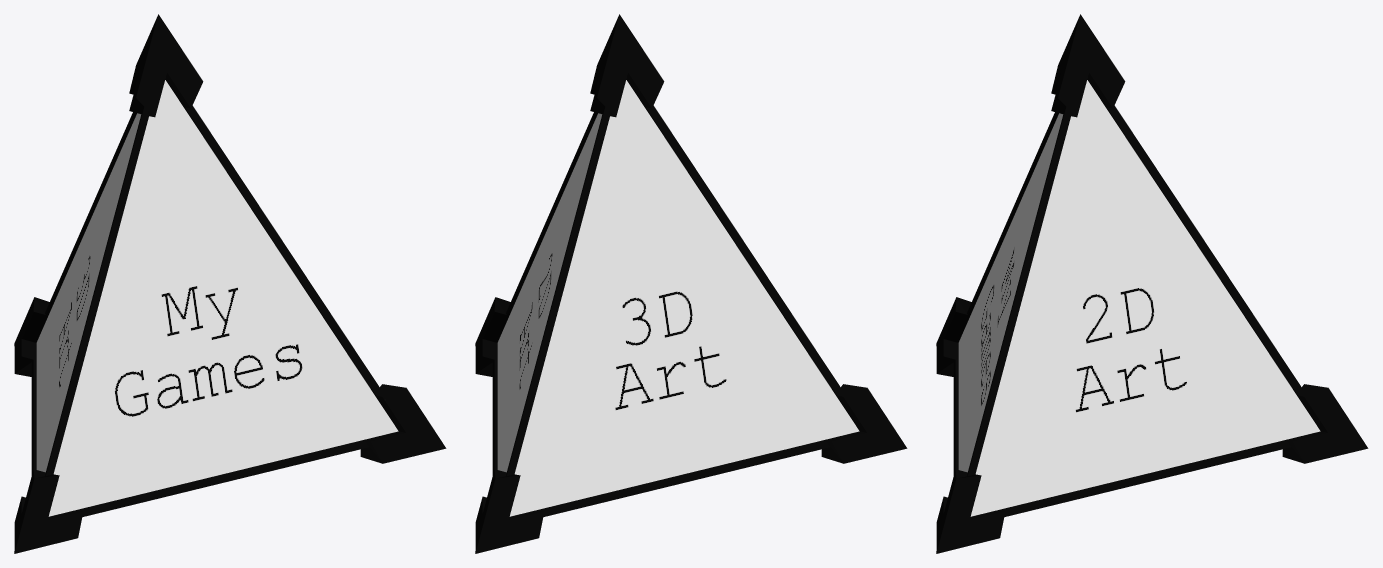
The model's file is NavTri.obj.
3 renders of one model, left to right at view 1: azimuth 30°, elevation 25°; view 2: azimuth 150°, elevation 25°; view 3: azimuth 270°, elevation 25°, orthographic.
Parts seen in each view (by area): view 1: MainTriangle; view 2: MainTriangle; view 3: MainTriangle.
Boxes of the visible parts, x1,y1,x2,y2 form: MainTriangle: (14, 14, 446, 553); MainTriangle: (475, 14, 907, 553); MainTriangle: (936, 14, 1368, 553).
Size of the model in its own units: 17.56 by 16.88 by 15.21.
1 material, 1 textured.
